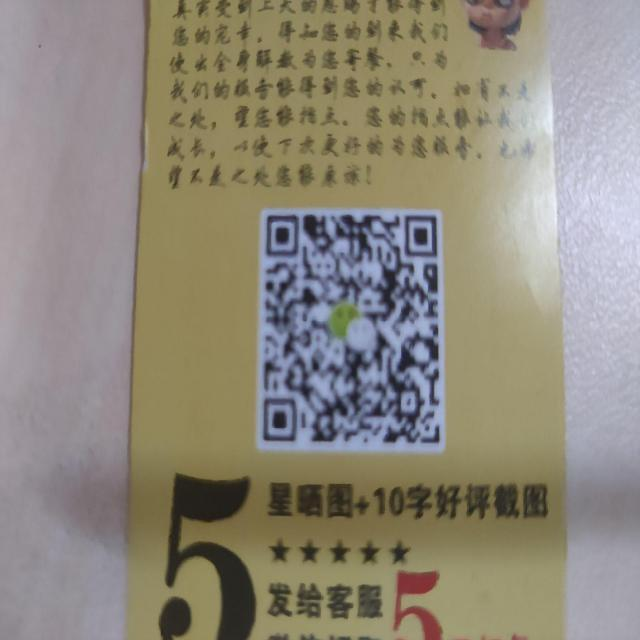qr_code: (266, 214, 439, 446)
